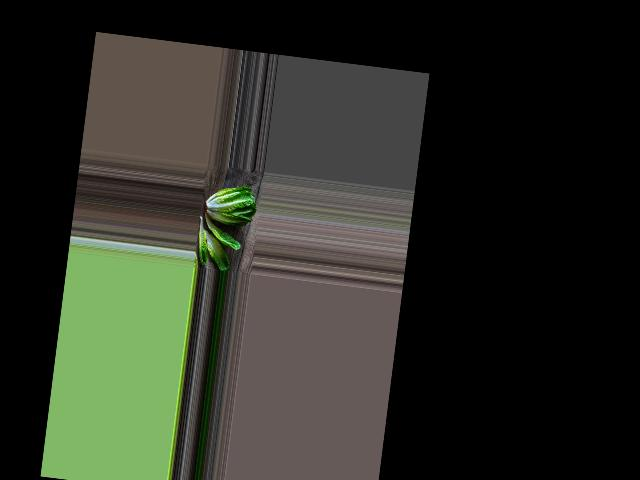lettuce: (204, 180, 258, 230)
